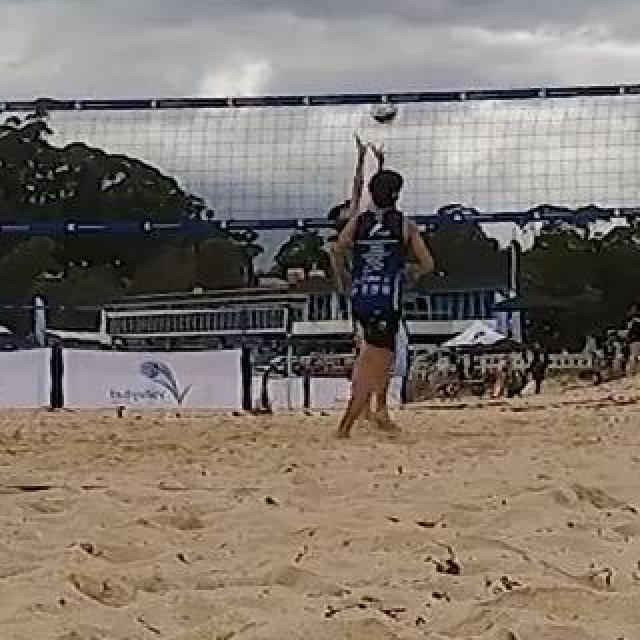volleyball: (369, 96, 397, 124)
